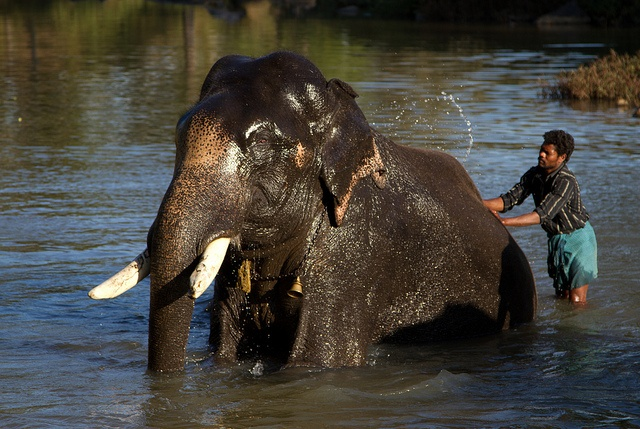elephant: (91, 49, 536, 373)
